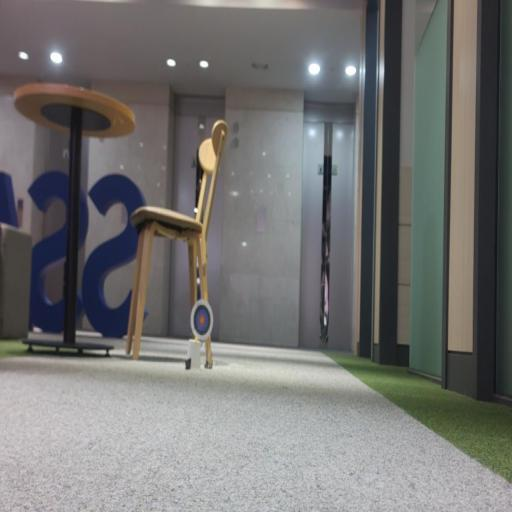target: (191, 299, 213, 341)
